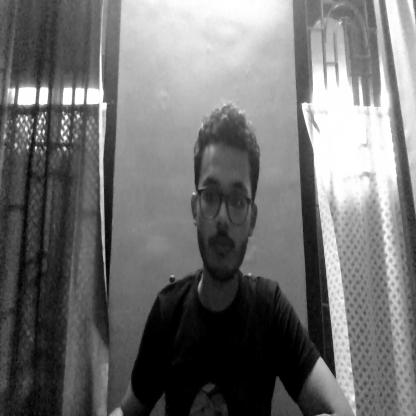Normal: (190, 104, 260, 287)
